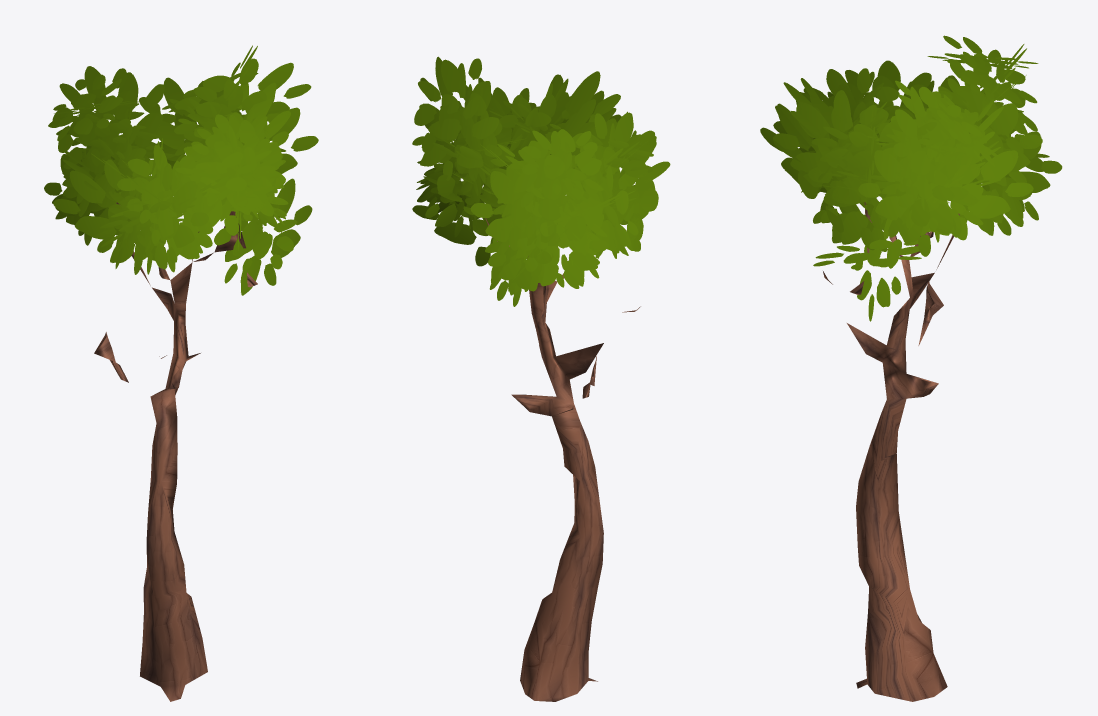
The model's file is CommonTree_4_L.gltf.
3 views of the same model, side by side, from view 1: azimuth 30°, elevation 25°; view 2: azimuth 150°, elevation 25°; view 3: azimuth 270°, elevation 25° (orthographic). The views are drawn at different scales.
Visible parts, largest first — view 1: CommonTree_4_L; view 2: CommonTree_4_L; view 3: CommonTree_4_L.
Boxes of the visible parts, x1,y1,x2,y2 form: CommonTree_4_L: (44,45,318,701); CommonTree_4_L: (412,56,670,701); CommonTree_4_L: (760,35,1062,701).
Size of the model in its own units: 4.62 by 9.86 by 4.56.
Materials: 2 (2 with a texture image).
